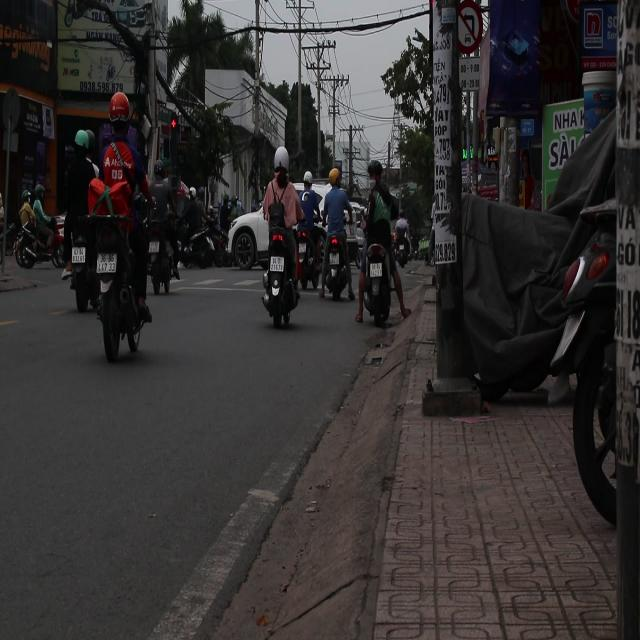car: (228, 184, 302, 282)
motorbike: (92, 202, 152, 358), (262, 214, 303, 328), (362, 236, 399, 334), (64, 210, 96, 321), (146, 202, 181, 298), (14, 205, 59, 268), (182, 215, 226, 269), (324, 228, 350, 308)
